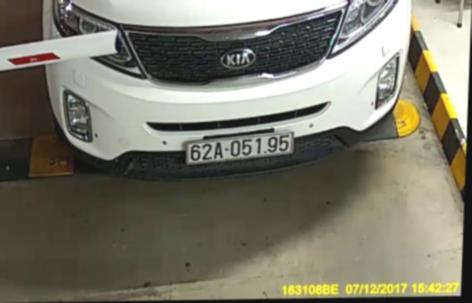License_Plate: (182, 134, 302, 160)
